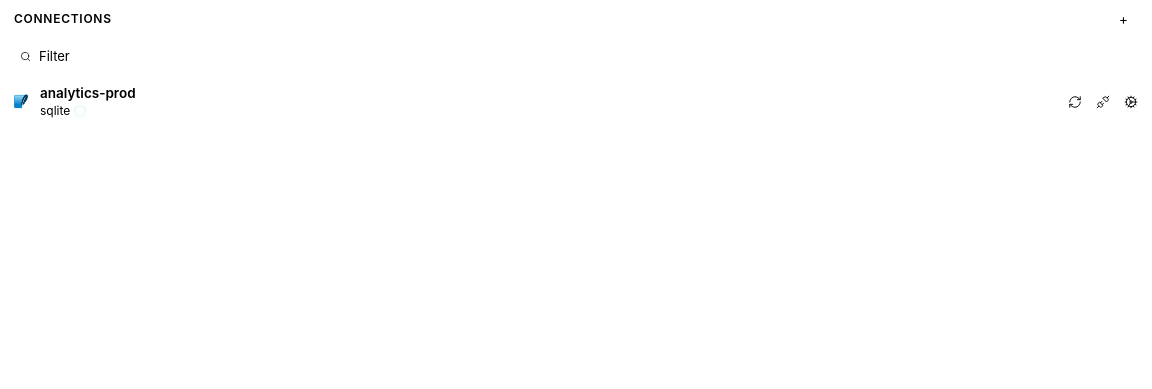
CombinedConnectionsTree › groups SQLite database children by metadata object type
The width and height of the screenshot is (1152, 389).
Click the button with test id "expand-toggle-s1" at (88, 93), box [0,78,1151,126]
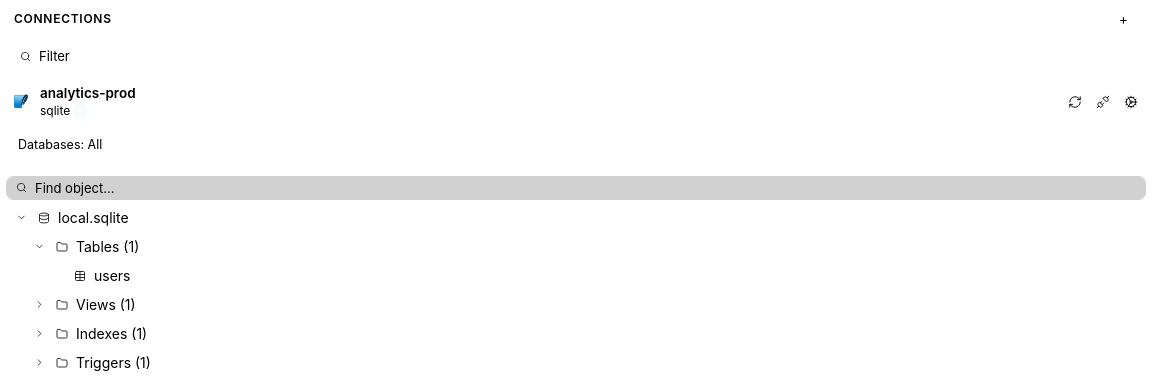
Now the button with test id "schema-select-s1" is shown, box [10,132,1142,160]
Now the text "Tables (1)" is shown, box [76,237,139,256]
Now the text "Views (1)" is shown, box [76,295,136,314]
